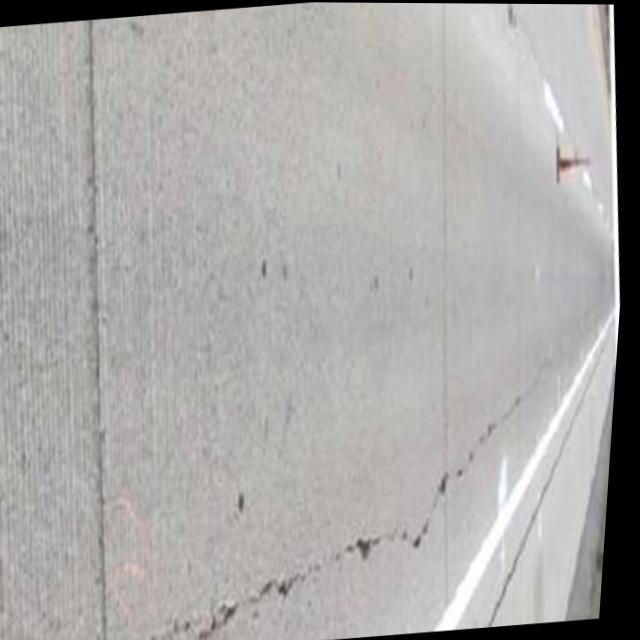Crack: (371, 380, 550, 567), (117, 541, 347, 640)
